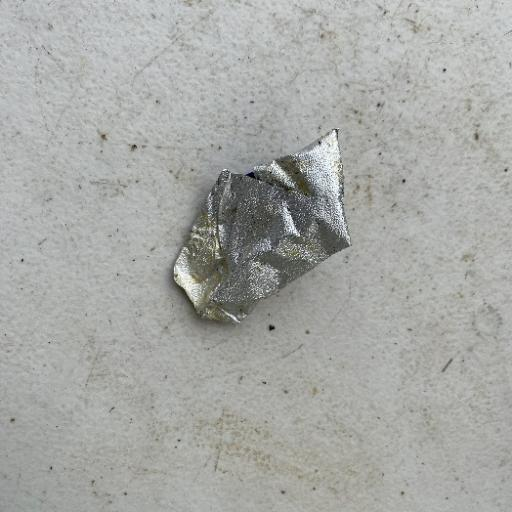Metal: (171, 126, 353, 326)
